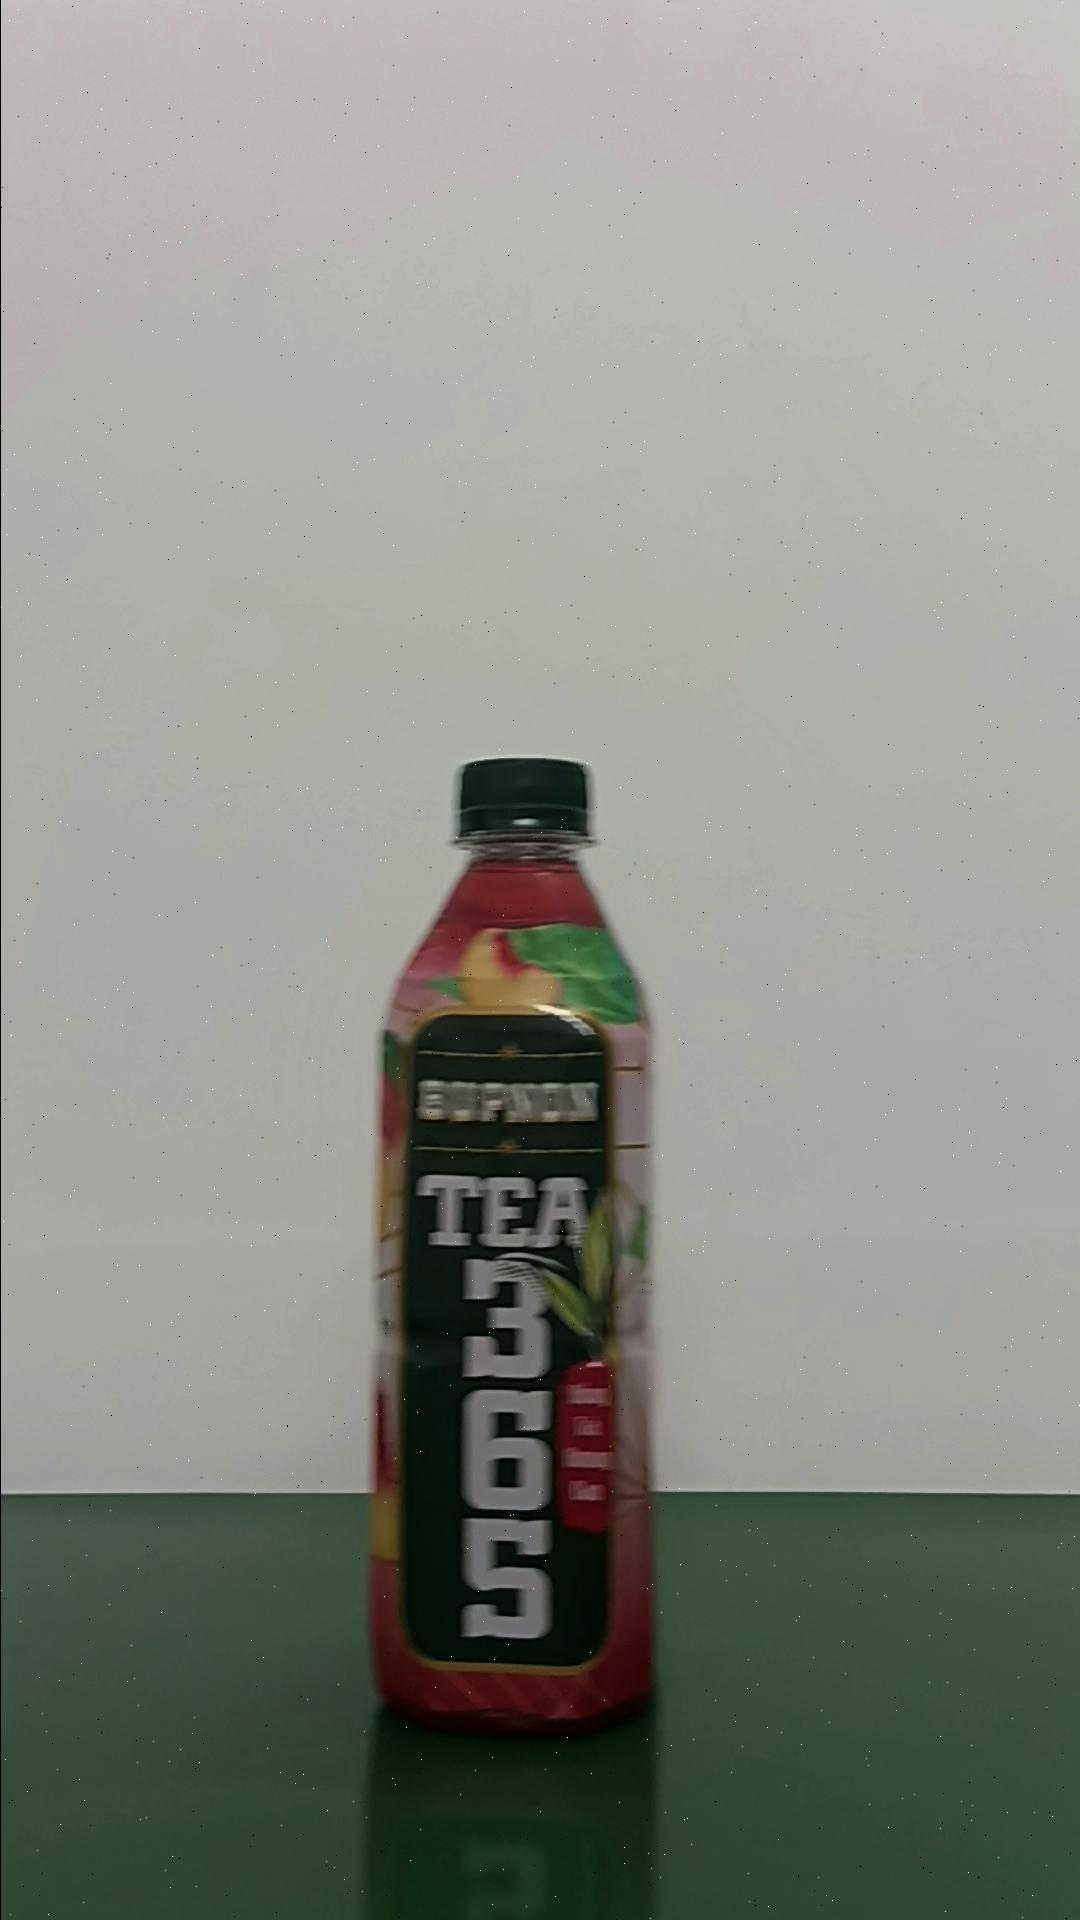khong loi: (364, 754, 658, 1737)
